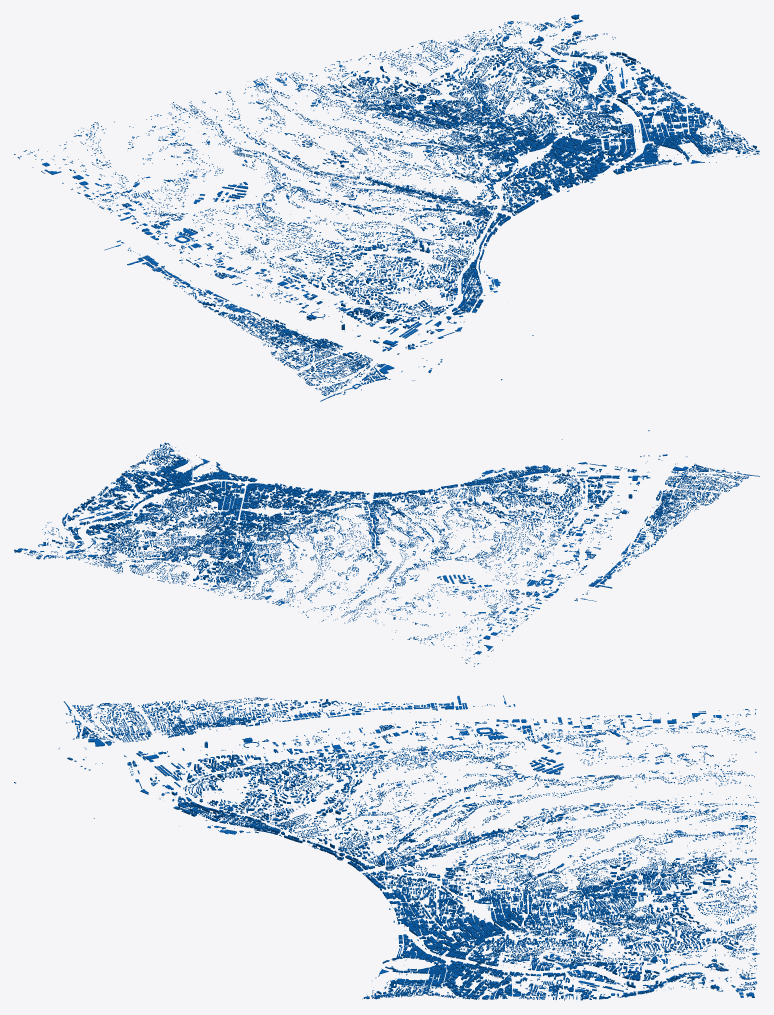
The model's file is nice_buildings_undefined.glb.
The picture shows the model from 3 angles, top to bottom: view 1: azimuth 30°, elevation 25°; view 2: azimuth 150°, elevation 25°; view 3: azimuth 270°, elevation 25°; orthographic projection. The views are drawn at different scales.
Visible parts, largest first — view 1: nice_buildings_undefined; view 2: nice_buildings_undefined; view 3: nice_buildings_undefined.
Boxes of the visible parts, x1,y1,x2,y2 form: nice_buildings_undefined: (14, 14, 759, 401); nice_buildings_undefined: (14, 430, 759, 666); nice_buildings_undefined: (14, 695, 759, 1000).
Bounding box in the file's own units: 9275 × 319 × 9558.
